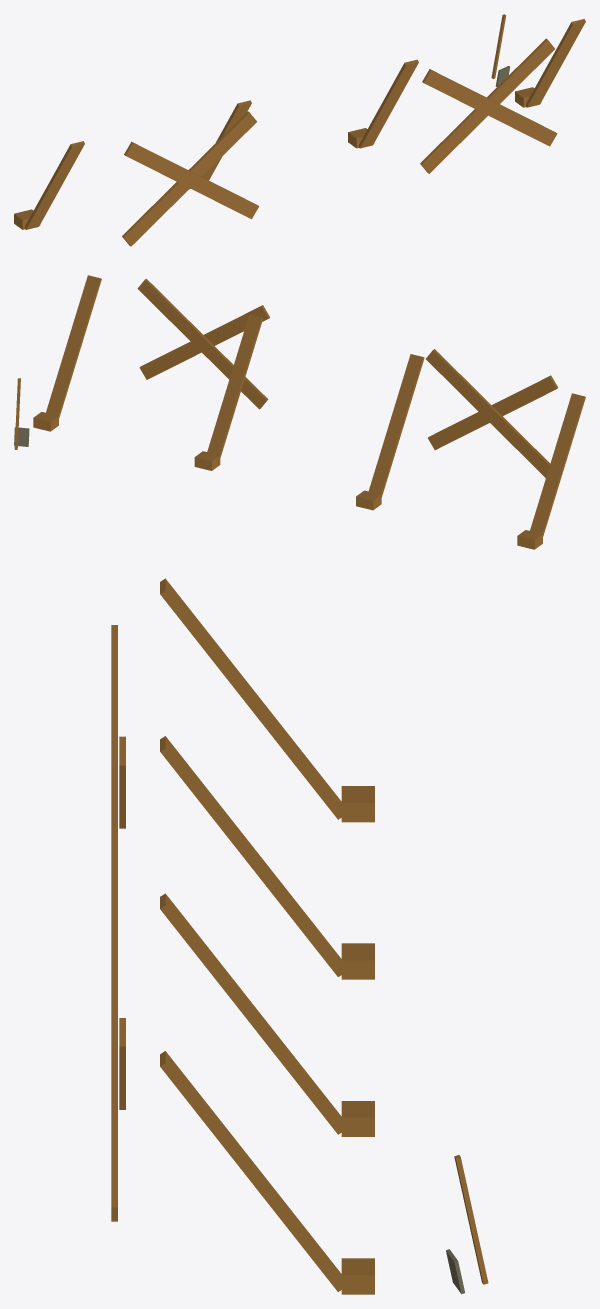
The model's file is SM_ObraPuertaApuntalada_v2_10m_LOD0.fbx.
3 renders of one model, top to bottom at view 1: azimuth 30°, elevation 25°; view 2: azimuth 150°, elevation 25°; view 3: azimuth 270°, elevation 25°, orthographic. The views are drawn at different scales.
Parts seen in each view (by area): view 1: SM_obra_curso_v35_LOD0; view 2: SM_obra_curso_v35_LOD0; view 3: SM_obra_curso_v35_LOD0.
Part boxes in pixels (x1,y1,x2,y2): SM_obra_curso_v35_LOD0: (14, 14, 585, 246); SM_obra_curso_v35_LOD0: (14, 275, 585, 549); SM_obra_curso_v35_LOD0: (111, 578, 488, 1294).
Bounding box in the file's own units: 8.7 × 1.92 × 2.83.
